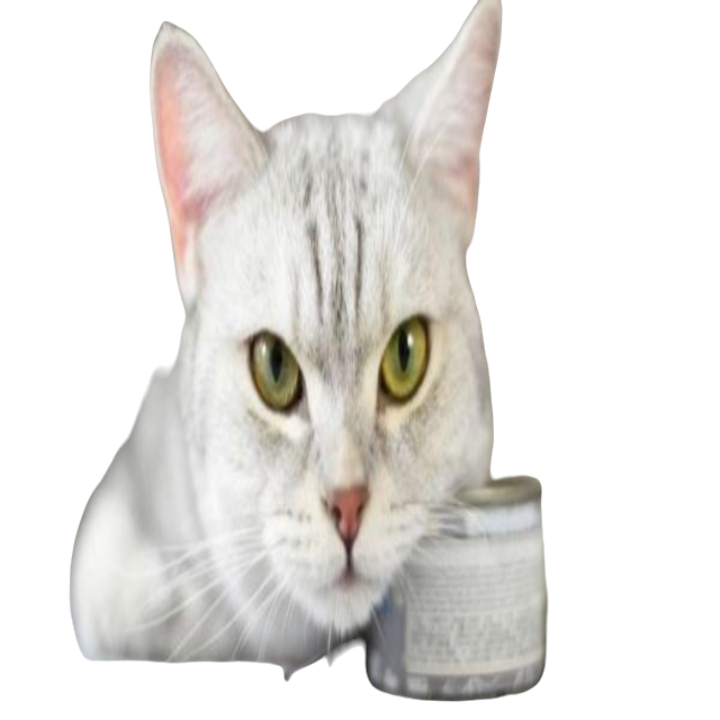Cat: (65, 0, 564, 695)
